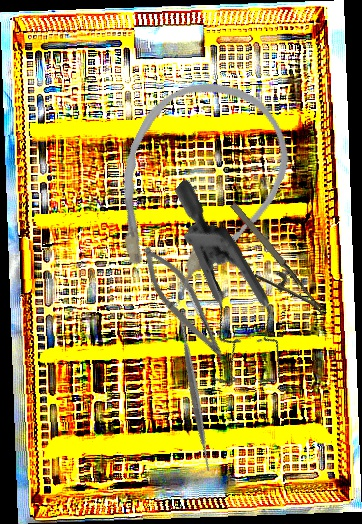Cannula: (77, 57, 311, 322)
Micro Scissor: (129, 239, 241, 368)
Needle Holder: (211, 199, 328, 335)
Spatula Surgical: (110, 309, 280, 478)
Speculum: (96, 177, 341, 412)
